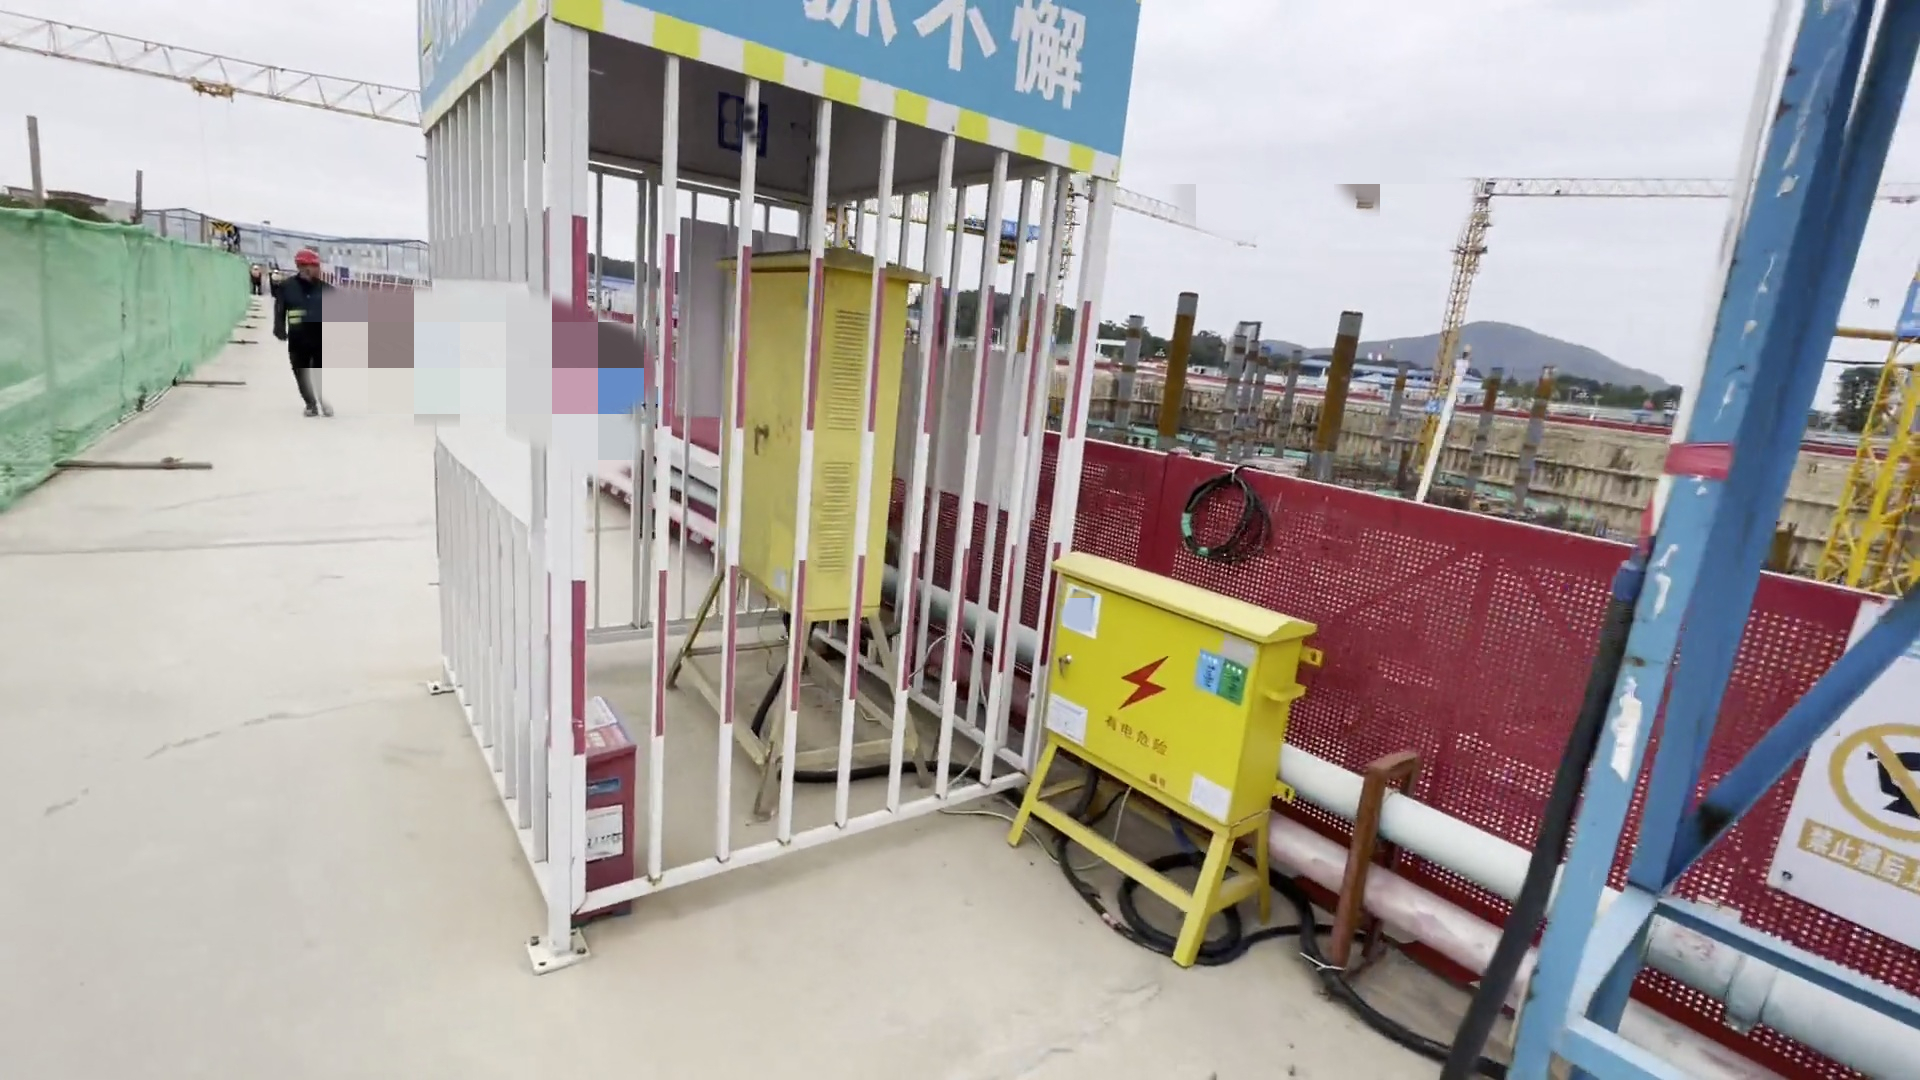ebox: (1018, 545, 1302, 993), (716, 244, 889, 620)
fence: (1041, 428, 1539, 885)
helmet: (293, 250, 323, 270)
person: (279, 248, 342, 418)
vest: (281, 278, 339, 356)
